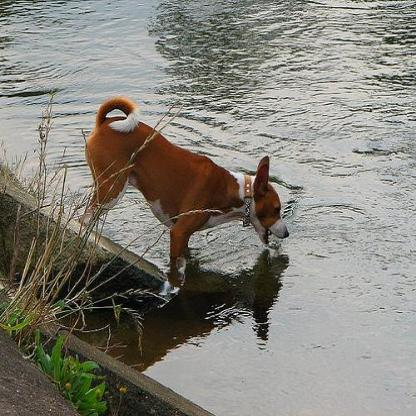basenji: (76, 93, 288, 286)
